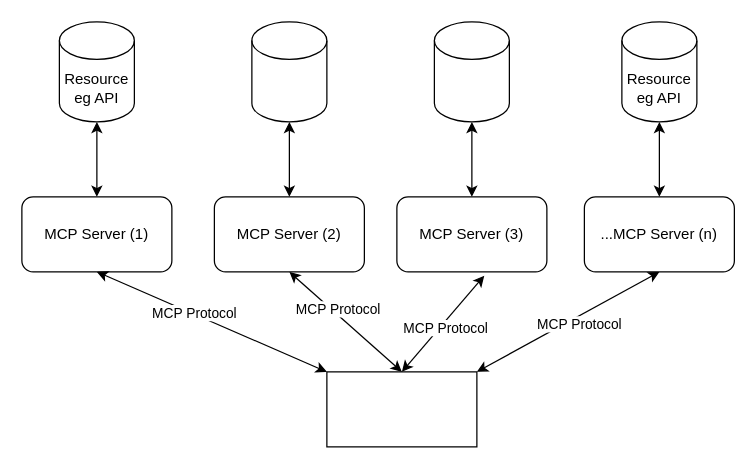
This 756x469 diagram has some shape labels left out. Each missing label, with the centre of its shape:
LLM-powered application: (x=401, y=409)
Resource eg database: (x=471, y=71)
Resource eg vectorstore: (x=289, y=71)
